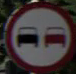No overtake: (4, 9, 72, 62)
